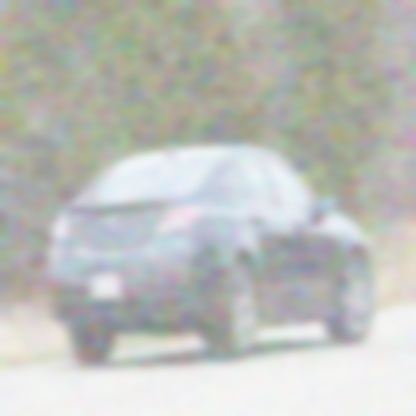Vehicle: (46, 142, 374, 365)
